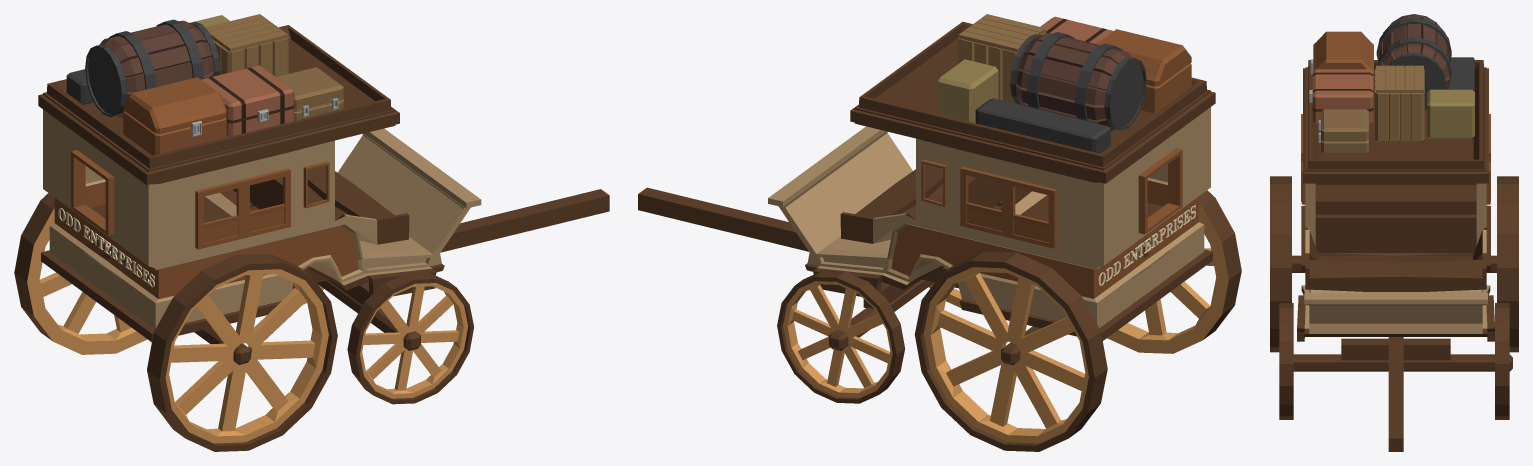
Rendered from CARROSA.glb.
3 views of the same model, side by side, from view 1: azimuth 30°, elevation 25°; view 2: azimuth 150°, elevation 25°; view 3: azimuth 270°, elevation 25° (orthographic). The views are drawn at different scales.
Parts seen in each view (by area): view 1: Cube.016, RUEDA TRASERA DERECHA, RUEDA DELANTERA DERECHA, Cylinder, RUEDA TRASERA IZQUIERDA.001, Cube.006, Cube.007, Cube.005, Cube.008, Text, Cube.020, Cube.001; view 2: Cube.016, RUEDA TRASERA IZQUIERDA.001, Cylinder, RUEDA DELANTERA IZQUIERDA, RUEDA TRASERA DERECHA, Cube.001, Cube.006, Cube.005, Cube.009, Cube.007, Text, Cube.020; view 3: Cube.016, Cube.020, Cube.018, Cylinder, Cube.005, RUEDA TRASERA DERECHA, RUEDA TRASERA IZQUIERDA.001, Cube.007, Cube.009, Cube.006, Cube.008, RUEDA DELANTERA DERECHA (+3 smaller).
Part boxes in pixels (x1=…): Cube.016: x1=38, y1=25, x2=609, y2=364; RUEDA TRASERA DERECHA: x1=147, y1=253, x2=337, y2=451; RUEDA DELANTERA DERECHA: x1=347, y1=272, x2=473, y2=404; Cylinder: x1=85, y1=19, x2=220, y2=118; RUEDA TRASERA IZQUIERDA.001: x1=14, y1=193, x2=147, y2=354; Cube.006: x1=123, y1=77, x2=226, y2=155; Cube.007: x1=201, y1=65, x2=294, y2=136; Cube.005: x1=205, y1=14, x2=288, y2=76; Cube.008: x1=276, y1=67, x2=343, y2=120; Text: x1=58, y1=208, x2=154, y2=287; Cube.020: x1=233, y1=177, x2=315, y2=209; Cube.001: x1=66, y1=69, x2=93, y2=104; Cube.016: x1=638, y1=21, x2=1215, y2=365; RUEDA TRASERA IZQUIERDA.001: x1=914, y1=251, x2=1107, y2=451; Cylinder: x1=1010, y1=32, x2=1146, y2=131; RUEDA DELANTERA IZQUIERDA: x1=777, y1=270, x2=905, y2=403; RUEDA TRASERA DERECHA: x1=1107, y1=190, x2=1241, y2=353; Cube.001: x1=975, y1=98, x2=1110, y2=153; Cube.006: x1=1096, y1=29, x2=1191, y2=114; Cube.005: x1=958, y1=14, x2=1045, y2=103; Cube.009: x1=937, y1=59, x2=998, y2=123; Cube.007: x1=1040, y1=16, x2=1113, y2=43; Text: x1=1098, y1=204, x2=1195, y2=285; Cube.020: x1=935, y1=176, x2=1018, y2=207; Cube.016: x1=1292, y1=60, x2=1512, y2=451; Cube.020: x1=1315, y1=214, x2=1476, y2=252; Cube.018: x1=1315, y1=185, x2=1476, y2=214; Cylinder: x1=1376, y1=14, x2=1451, y2=109; Cube.005: x1=1375, y1=65, x2=1424, y2=142; RUEDA TRASERA DERECHA: x1=1270, y1=176, x2=1291, y2=352; RUEDA TRASERA IZQUIERDA.001: x1=1497, y1=176, x2=1518, y2=352; Cube.007: x1=1309, y1=69, x2=1373, y2=123; Cube.009: x1=1427, y1=89, x2=1474, y2=138; Cube.006: x1=1310, y1=31, x2=1373, y2=99; Cube.008: x1=1318, y1=109, x2=1368, y2=153; RUEDA DELANTERA DERECHA: x1=1279, y1=303, x2=1293, y2=419.
Size of the model in its own units: 1.33 by 0.8876 by 0.6458.
